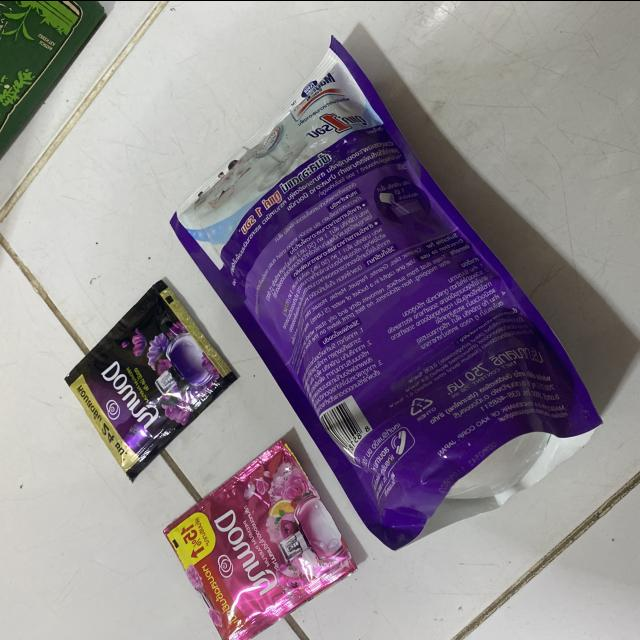plastik: (170, 37, 601, 548), (164, 439, 356, 640), (65, 280, 237, 479)
